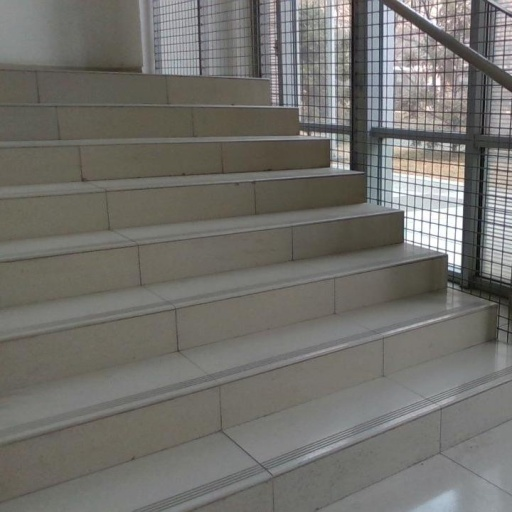Stairs: (0, 70, 512, 512)
